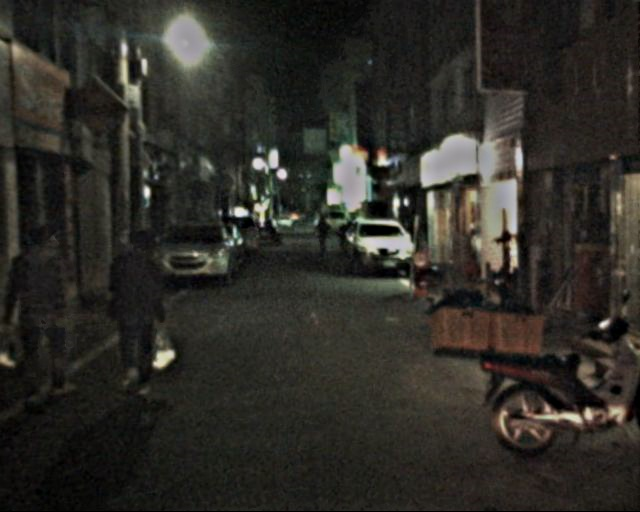person: (8, 222, 85, 401), (101, 222, 176, 397), (312, 216, 331, 255)
